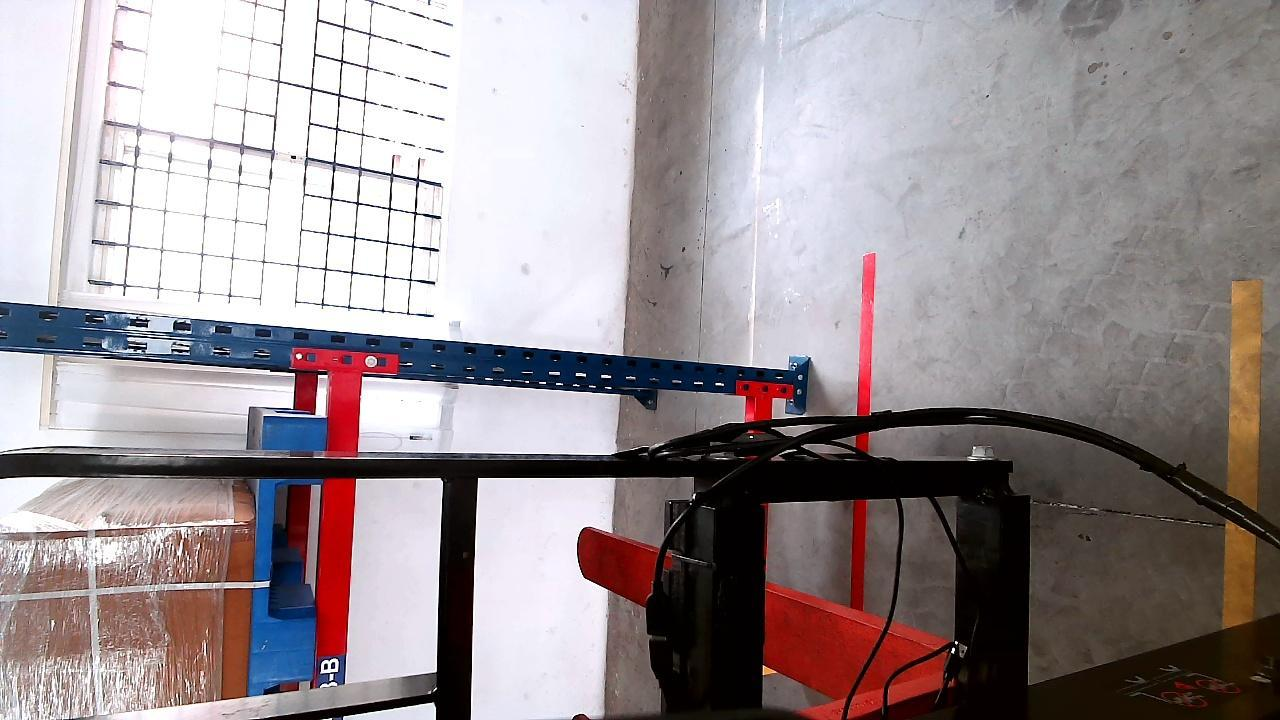red_line: (846, 254, 878, 607)
yellow_line: (1230, 277, 1269, 634)
